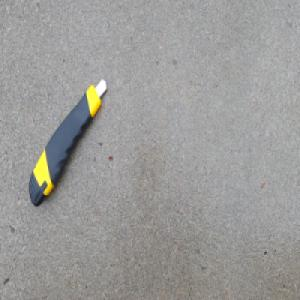Cutter: (28, 76, 107, 207)
